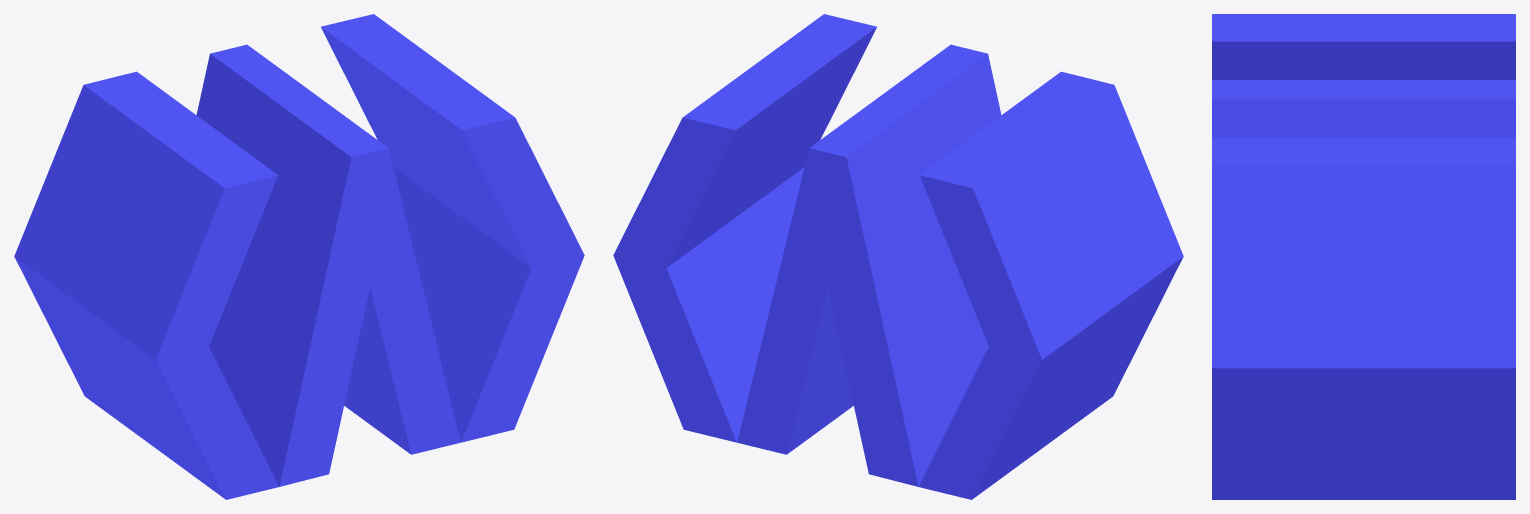
The picture shows the model from 3 angles, left to right: view 1: azimuth 30°, elevation 25°; view 2: azimuth 150°, elevation 25°; view 3: azimuth 270°, elevation 25°; orthographic projection. The views are drawn at different scales.
Parts seen in each view (by area): view 1: Line002; view 2: Line002; view 3: Line002.
Boxes of the visible parts, x1,y1,x2,y2 form: Line002: (14, 14, 584, 499); Line002: (613, 14, 1183, 499); Line002: (1212, 14, 1515, 499).
Size of the model in its own units: 0.1333 by 0.0927 by 0.0762.
